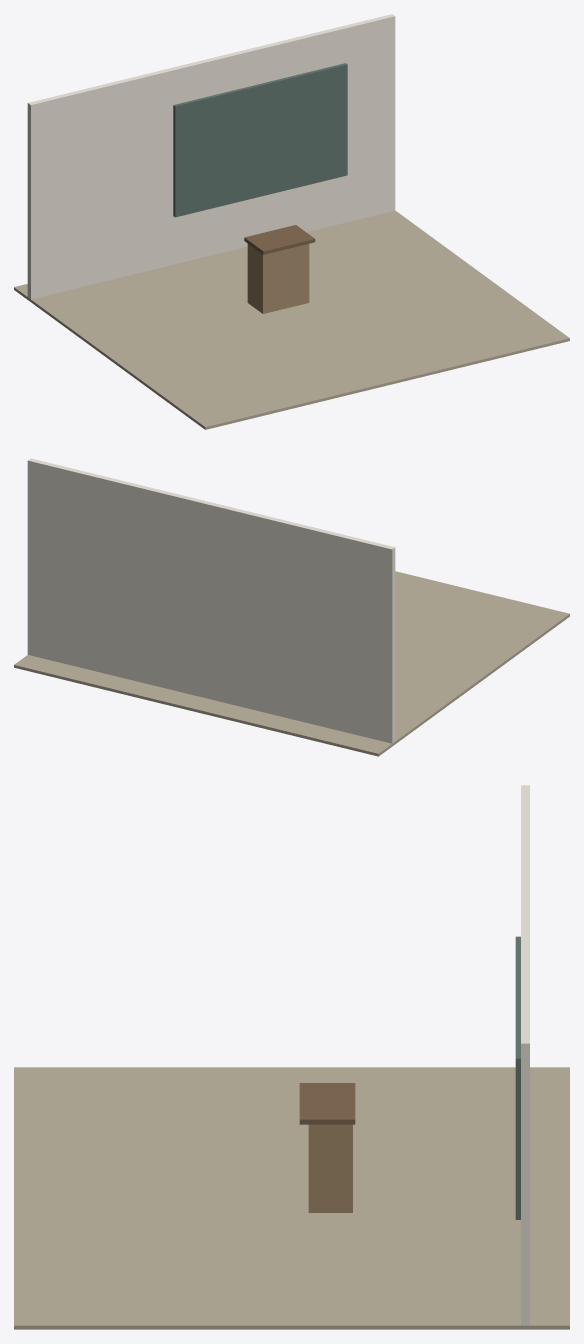
File: podium.glb
The picture shows the model from 3 angles, top to bottom: view 1: azimuth 30°, elevation 25°; view 2: azimuth 150°, elevation 25°; view 3: azimuth 270°, elevation 25°; orthographic projection. The views are drawn at different scales.
Parts seen in each view (by area): view 1: p_floor, p_wall, p_board, lectern_body, lectern_top; view 2: p_wall, p_floor; view 3: p_floor, p_wall, lectern_body, lectern_top, p_board.
Boxes of the visible parts, x1,y1,x2,y2 form: p_floor: [14, 210, 569, 429]; p_wall: [27, 14, 395, 299]; p_board: [173, 63, 347, 217]; lectern_body: [247, 244, 309, 313]; lectern_top: [244, 225, 315, 254]; p_wall: [27, 458, 395, 743]; p_floor: [14, 571, 569, 756]; p_floor: [14, 1067, 569, 1329]; p_wall: [521, 785, 529, 1325]; lectern_body: [308, 1124, 352, 1212]; lectern_top: [299, 1083, 355, 1124]; p_board: [515, 936, 520, 1219].
Bounding box in the file's own units: 5.5 × 2.84 × 5.
